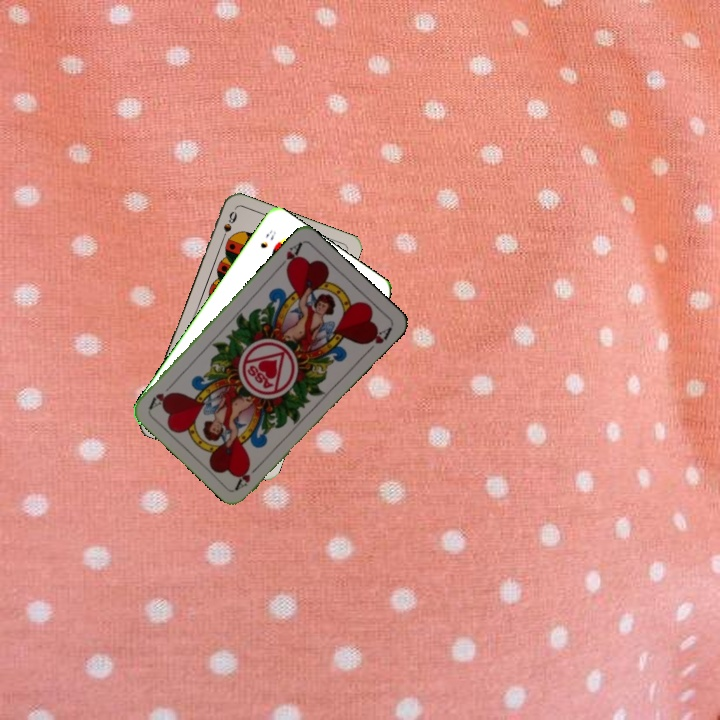HA: (231, 459, 264, 492), (274, 238, 305, 273)
S8: (256, 226, 279, 251)
S9: (217, 207, 240, 246)
